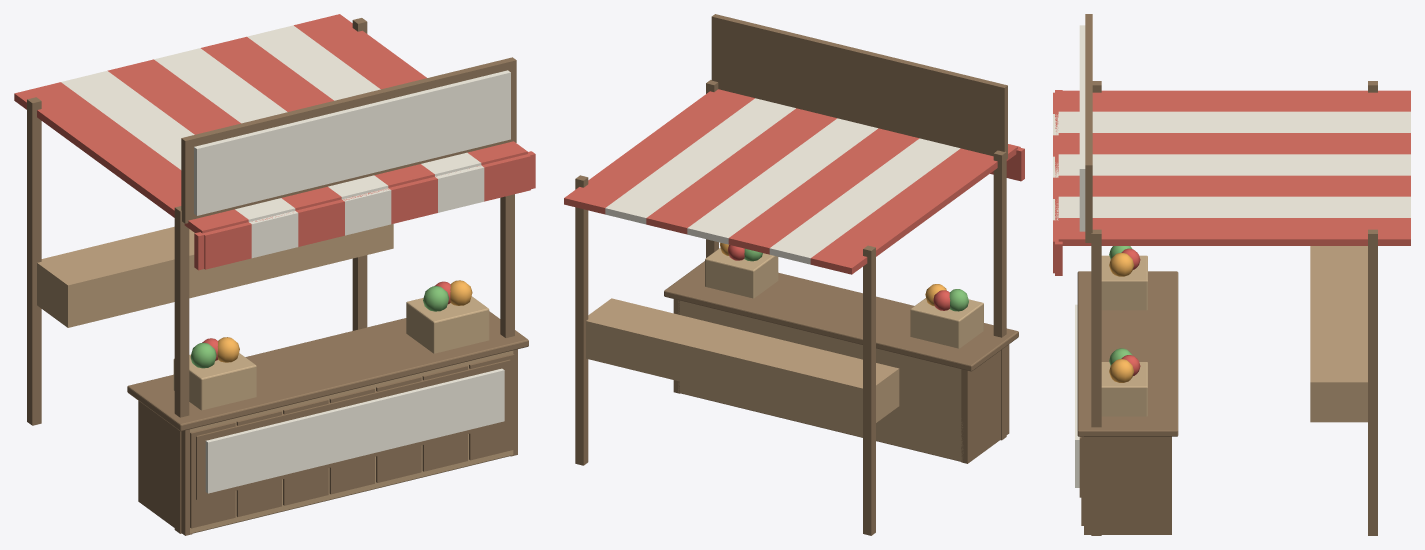
The model's file is BazaarStand.fbx.
The picture shows the model from 3 angles, left to right: view 1: azimuth 30°, elevation 25°; view 2: azimuth 150°, elevation 25°; view 3: azimuth 270°, elevation 25°; orthographic projection. The views are drawn at different scales.
Parts seen in each view (by area): view 1: BazaarStand; view 2: BazaarStand; view 3: BazaarStand.
Part boxes in pixels (<box>): BazaarStand: <box>14,14,535,535</box>; BazaarStand: <box>564,14,1024,535</box>; BazaarStand: <box>1053,14,1410,535</box>.
Bounding box in the file's own units: 3 × 3.25 × 2.84.
